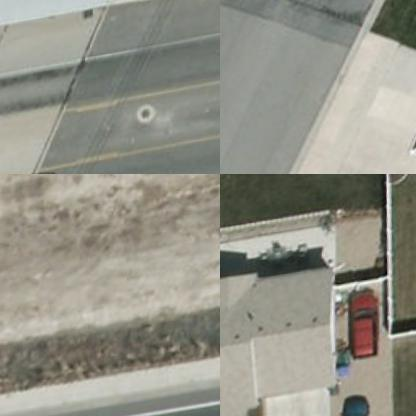car: (352, 292, 390, 362)
pickup: (342, 397, 385, 415)
